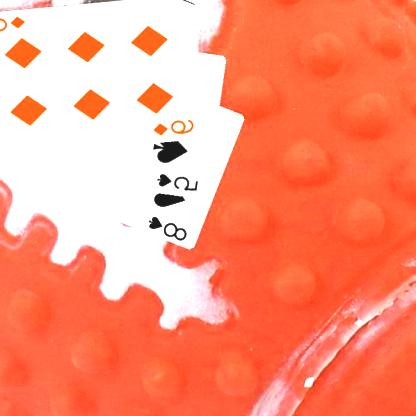5S: (156, 171, 202, 193)
6D: (152, 116, 198, 137), (0, 14, 29, 35)
8S: (147, 214, 191, 243)
